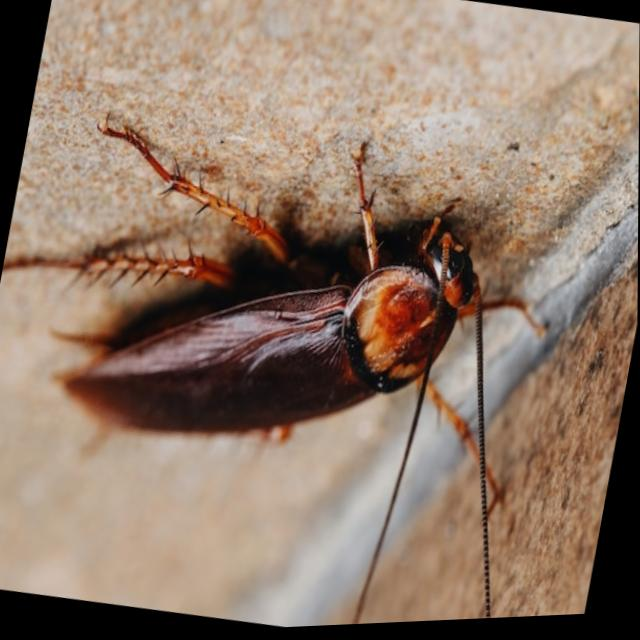Cockroach: (0, 0, 640, 640)
